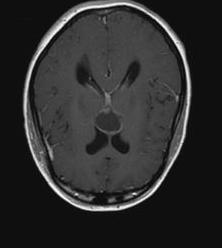Normal_Brain: (1, 1, 222, 248)
